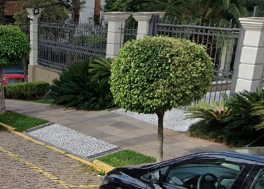vag61: (14, 126, 92, 184)
